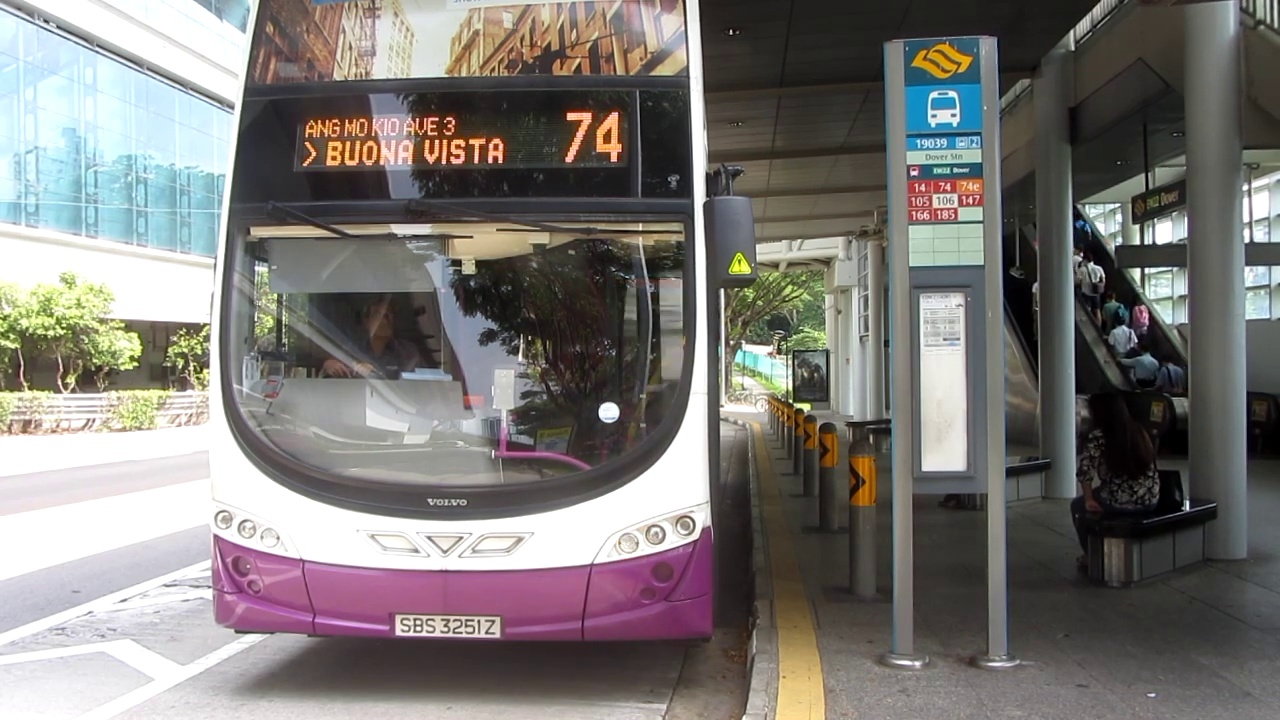bus panel: (290, 107, 630, 175)
